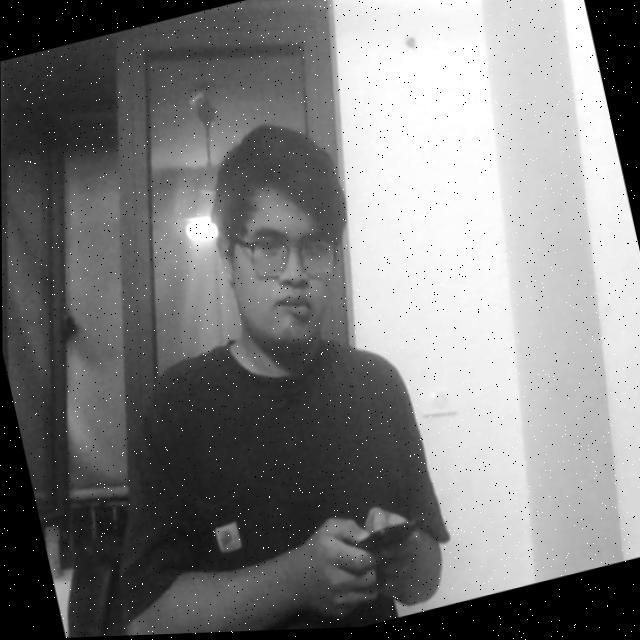phone: (309, 496, 439, 610)
